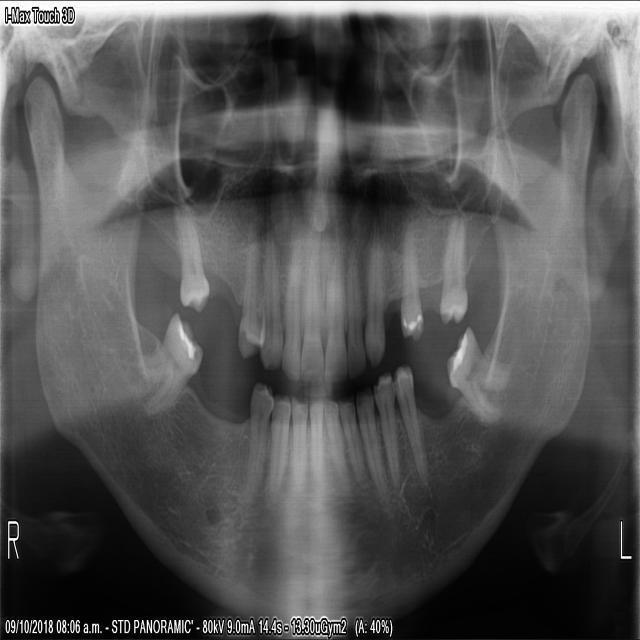LCD: (354, 388, 391, 509)
LCU: (362, 244, 387, 368)
LID: (336, 392, 367, 484), (322, 393, 351, 487)
LIU: (322, 237, 347, 382), (345, 242, 366, 381)
LMD: (441, 322, 510, 425)
LMU: (435, 212, 468, 325)
LPMD: (392, 358, 431, 492), (370, 368, 403, 489)
LPMU: (399, 224, 424, 344)
RCD: (269, 389, 291, 472)
RCU: (258, 231, 282, 369)
RID: (307, 390, 324, 478), (289, 390, 307, 472)
RIU: (298, 233, 323, 384), (278, 232, 302, 387)
RMD: (140, 302, 206, 414)
RMU: (171, 204, 210, 312)
RPMD: (245, 382, 274, 471)
RPMU: (233, 229, 264, 363)
